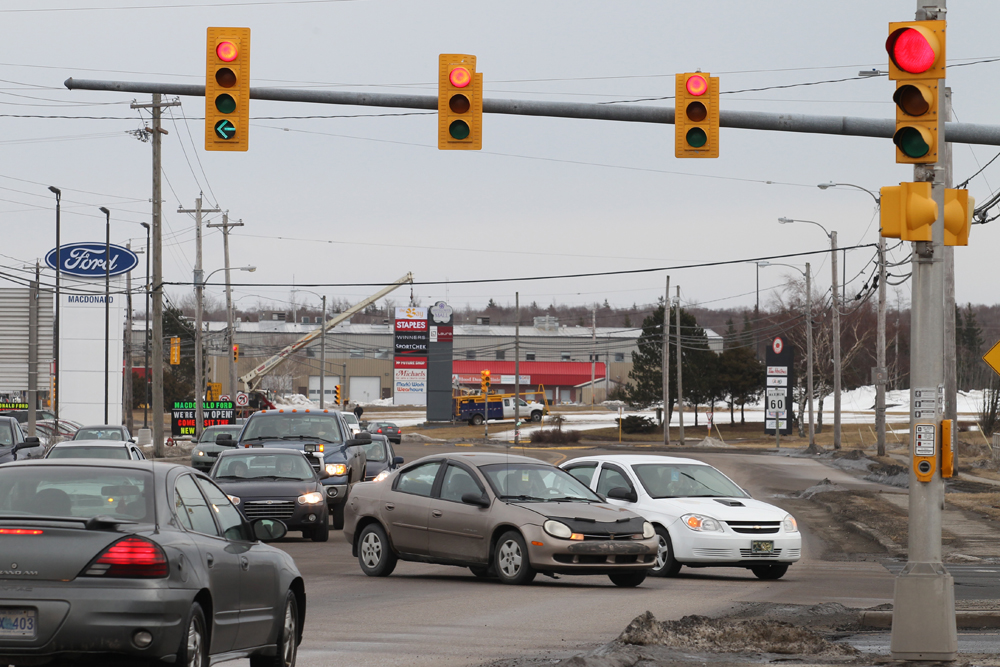traffic_light: (883, 18, 947, 166), (202, 23, 254, 155), (443, 61, 476, 147), (682, 71, 712, 153)
